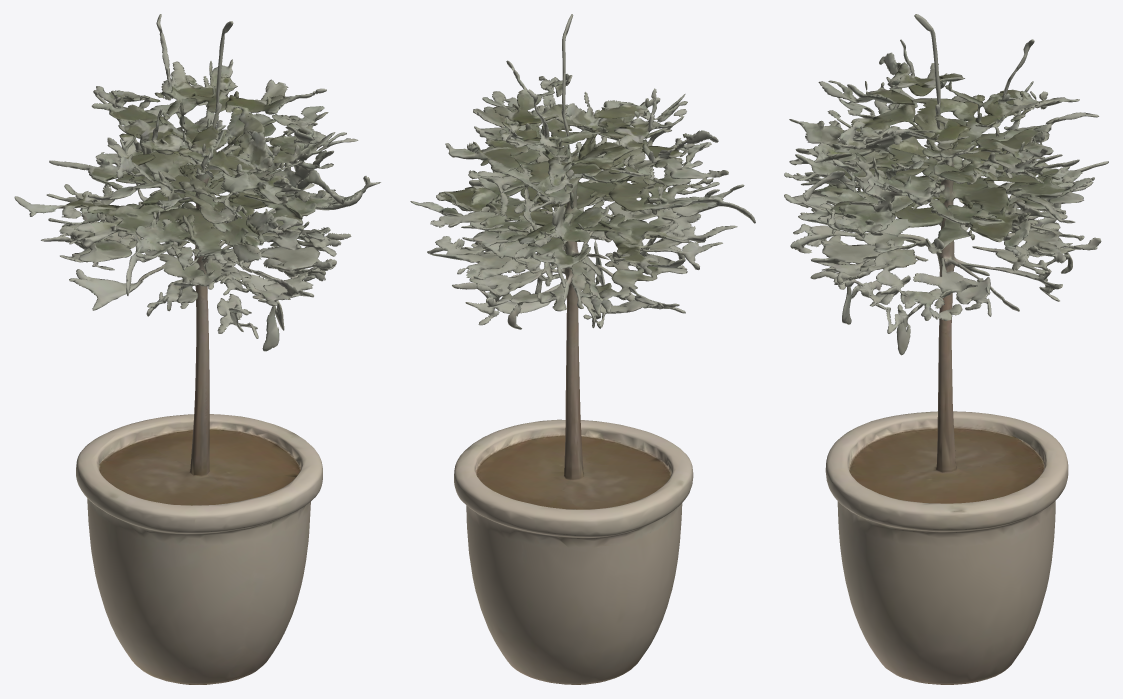
File: olivier.glb
3 renders of one model, left to right at view 1: azimuth 30°, elevation 25°; view 2: azimuth 150°, elevation 25°; view 3: azimuth 270°, elevation 25°, orthographic. The views are drawn at different scales.
Visible parts, largest first — view 1: tripo_node_a6120681-45b5-44fe-b43b-215a22e77278; view 2: tripo_node_a6120681-45b5-44fe-b43b-215a22e77278; view 3: tripo_node_a6120681-45b5-44fe-b43b-215a22e77278.
Part boxes in pixels (bbox=[...]): tripo_node_a6120681-45b5-44fe-b43b-215a22e77278: bbox=[14, 14, 380, 684]; tripo_node_a6120681-45b5-44fe-b43b-215a22e77278: bbox=[410, 14, 755, 684]; tripo_node_a6120681-45b5-44fe-b43b-215a22e77278: bbox=[784, 14, 1108, 684].
Bounding box in the file's own units: 0.4541 × 0.9997 × 0.4495.
1 material, 1 textured.
